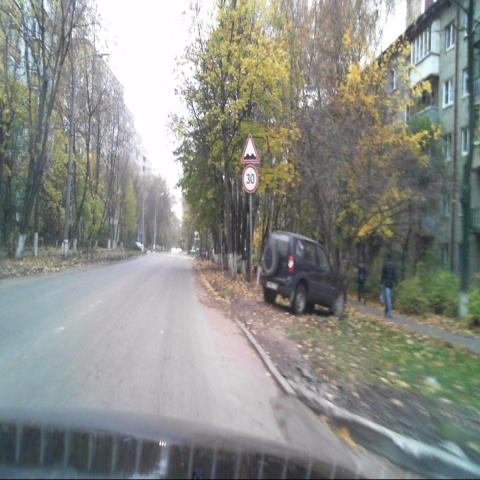1_16: (241, 133, 259, 162)
